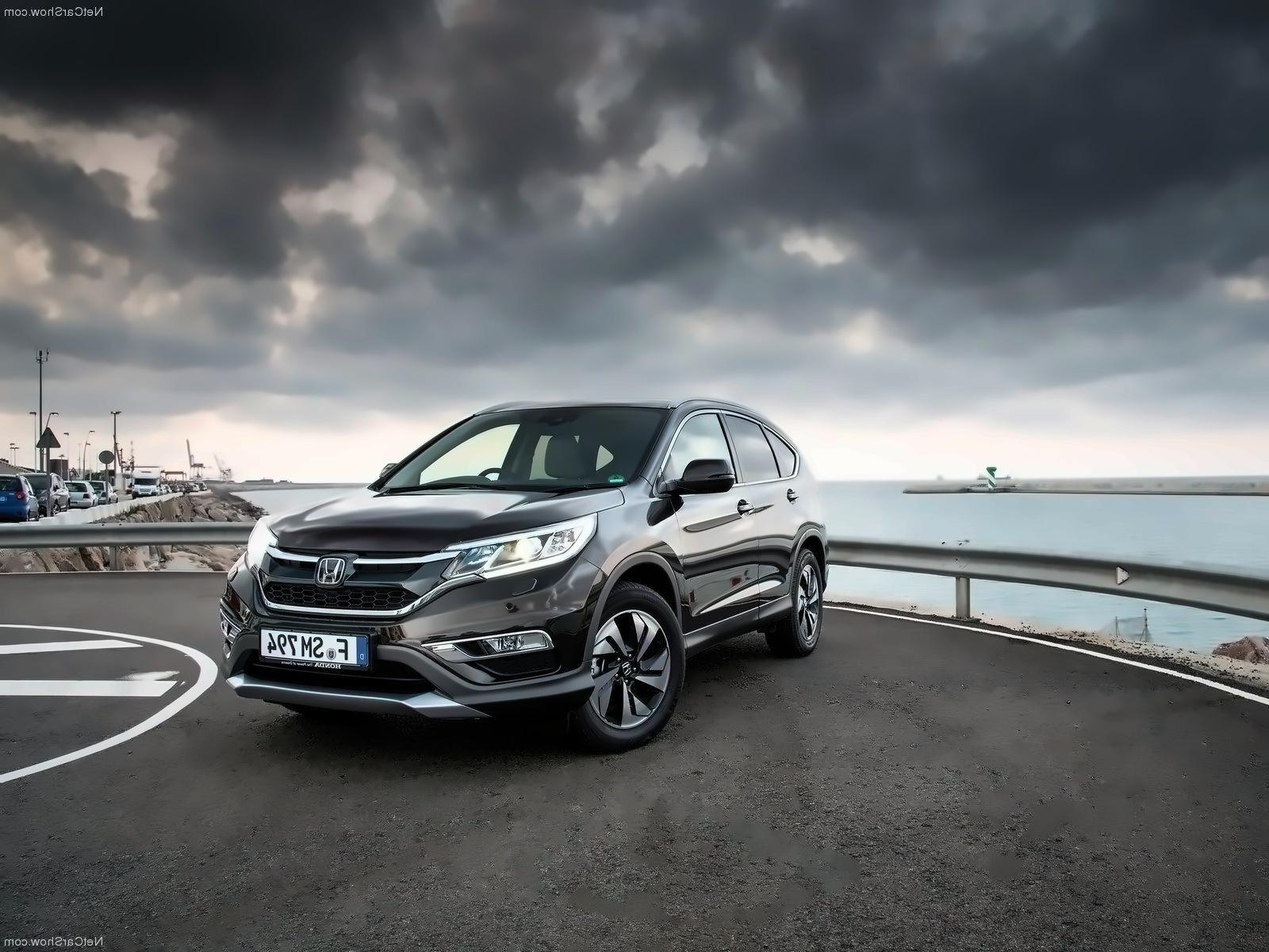Car hood: (264, 480, 629, 557)
Fender - -F-L-: (575, 471, 688, 660)
Front bumper: (215, 561, 616, 722)
Headlight - -L-: (436, 507, 603, 589)
Headlight - -R-: (240, 514, 283, 579)
Passenger-s door - -F-L-: (663, 404, 759, 641)
Passenger-s door - -R-L-: (725, 405, 809, 630)
Side bumper - -L-: (677, 589, 811, 662)
Side mirror - -L-: (658, 456, 740, 506)
Side mirror - -R-: (362, 458, 401, 488)
